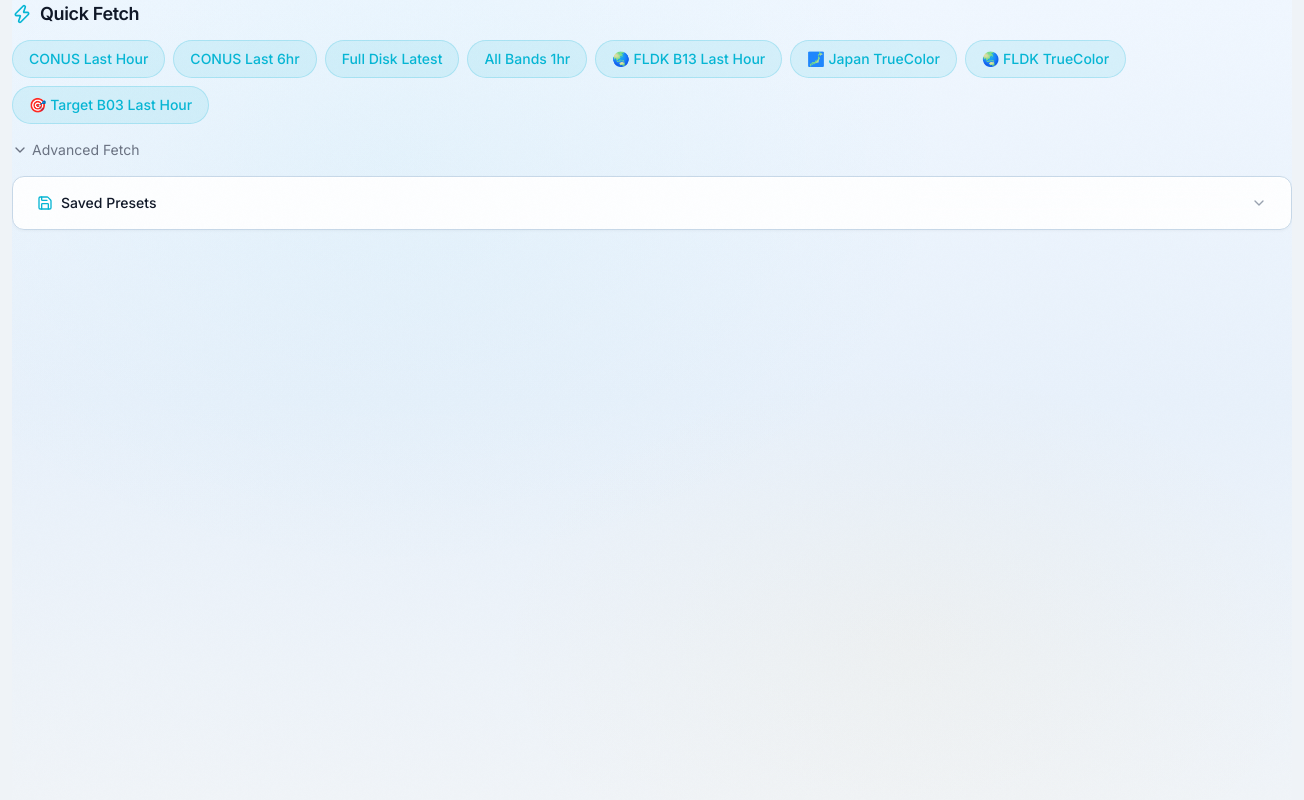
Test case: FetchFlowComplete › back button navigates to previous step
Click the button with test id "advanced-fetch-toggle".
click(76, 150)  # box [12, 140, 140, 160]
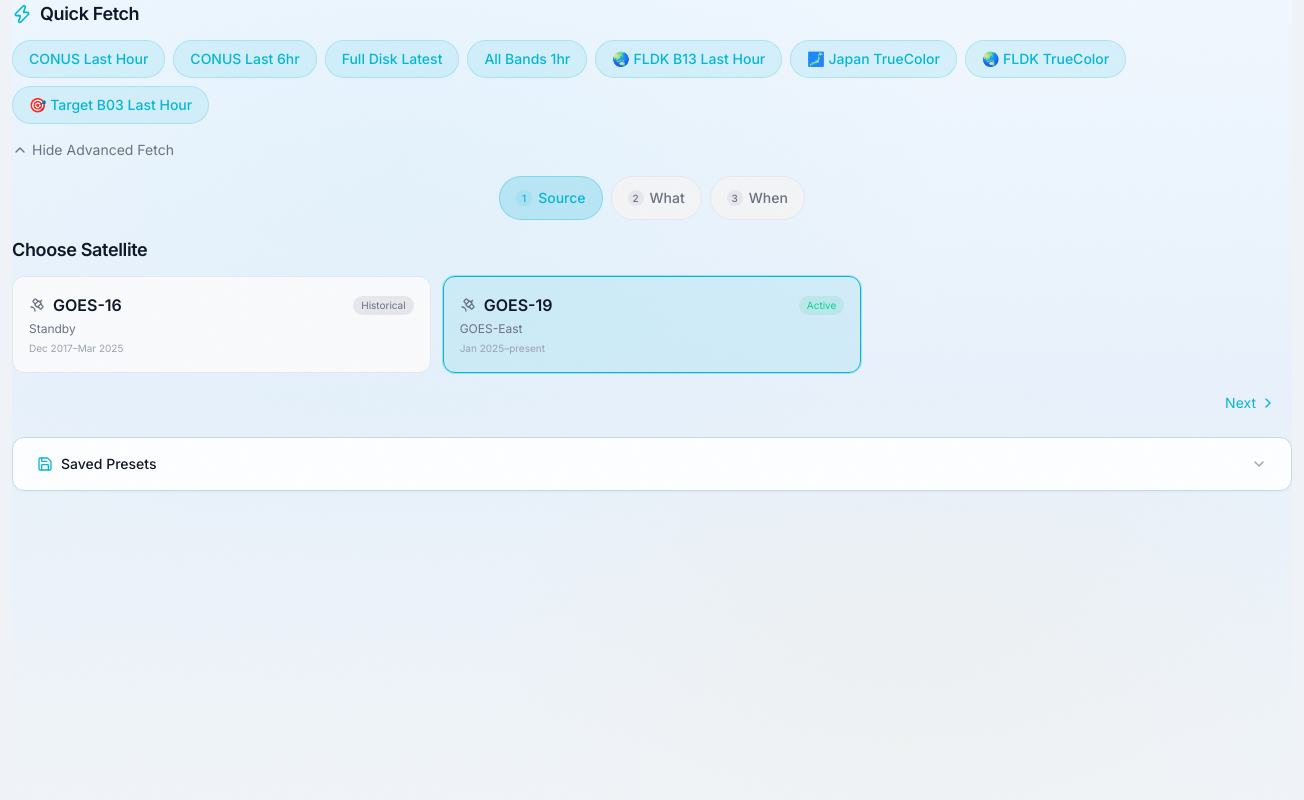
Now the heading "Choose Satellite" is shown, box [12, 239, 147, 260]
Click the button "Next".
click(1251, 403)  # box [1209, 385, 1292, 421]
(page scrolled)
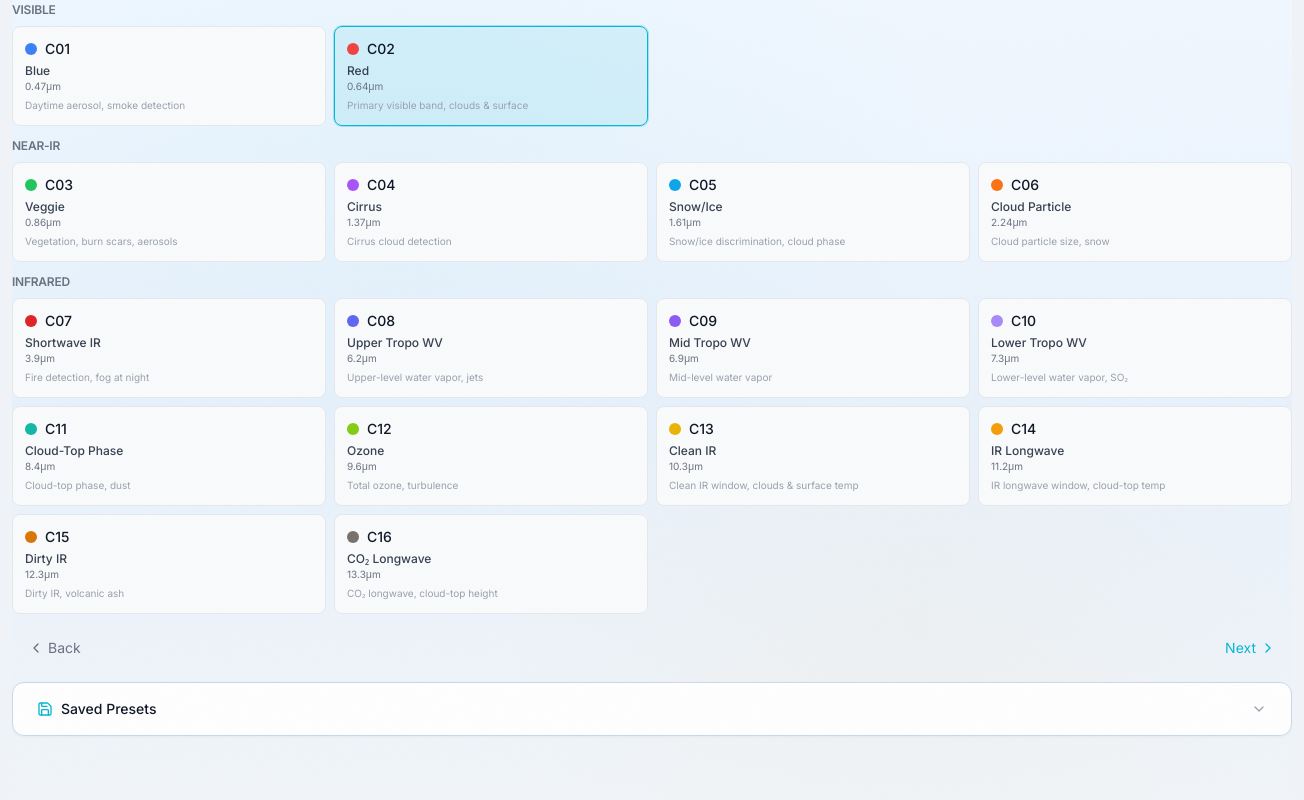
Click the button "Back".
click(54, 648)  # box [12, 630, 97, 666]
(page scrolled)
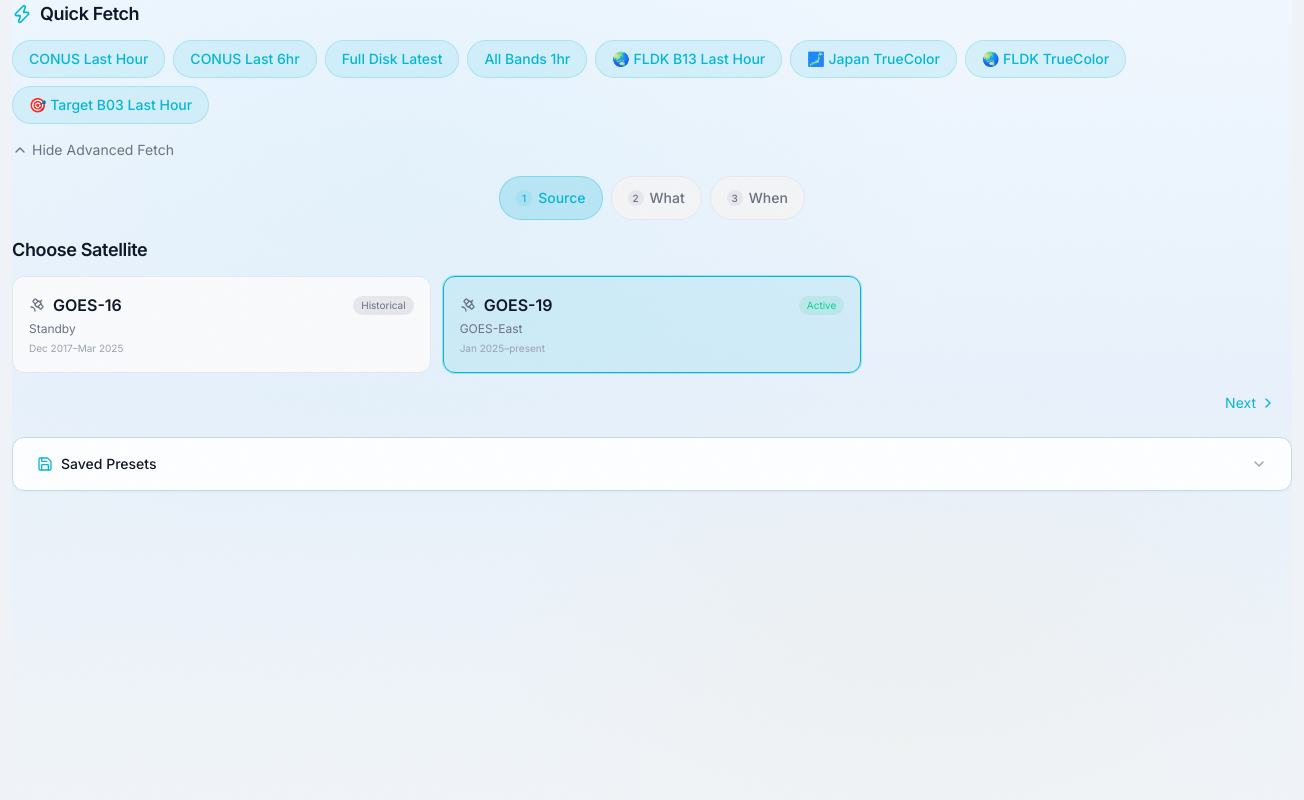
Now the heading "Choose Satellite" is shown, box [12, 239, 147, 260]
